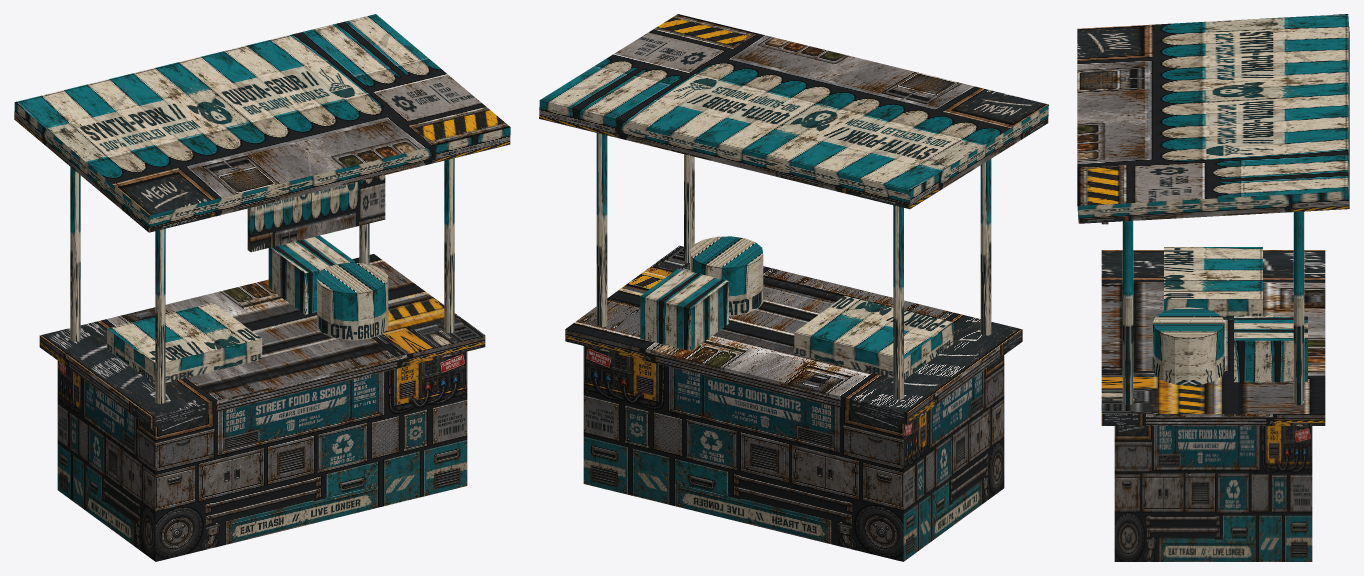
Rendered from prop_street_vendor.glb.
The picture shows the model from 3 angles, left to right: view 1: azimuth 30°, elevation 25°; view 2: azimuth 150°, elevation 25°; view 3: azimuth 270°, elevation 25°; orthographic projection. The views are drawn at different scales.
Visible parts, largest first — view 1: StreetVendor_Mesh; view 2: StreetVendor_Mesh; view 3: StreetVendor_Mesh.
Boxes of the visible parts, box(x1,y1,x2,y2) form: StreetVendor_Mesh: box(14, 14, 510, 561); StreetVendor_Mesh: box(539, 14, 1048, 561); StreetVendor_Mesh: box(1077, 14, 1349, 561).
Size of the model in its own units: 2.55 by 2.57 by 1.65.
Materials: 1 (1 with a texture image).
